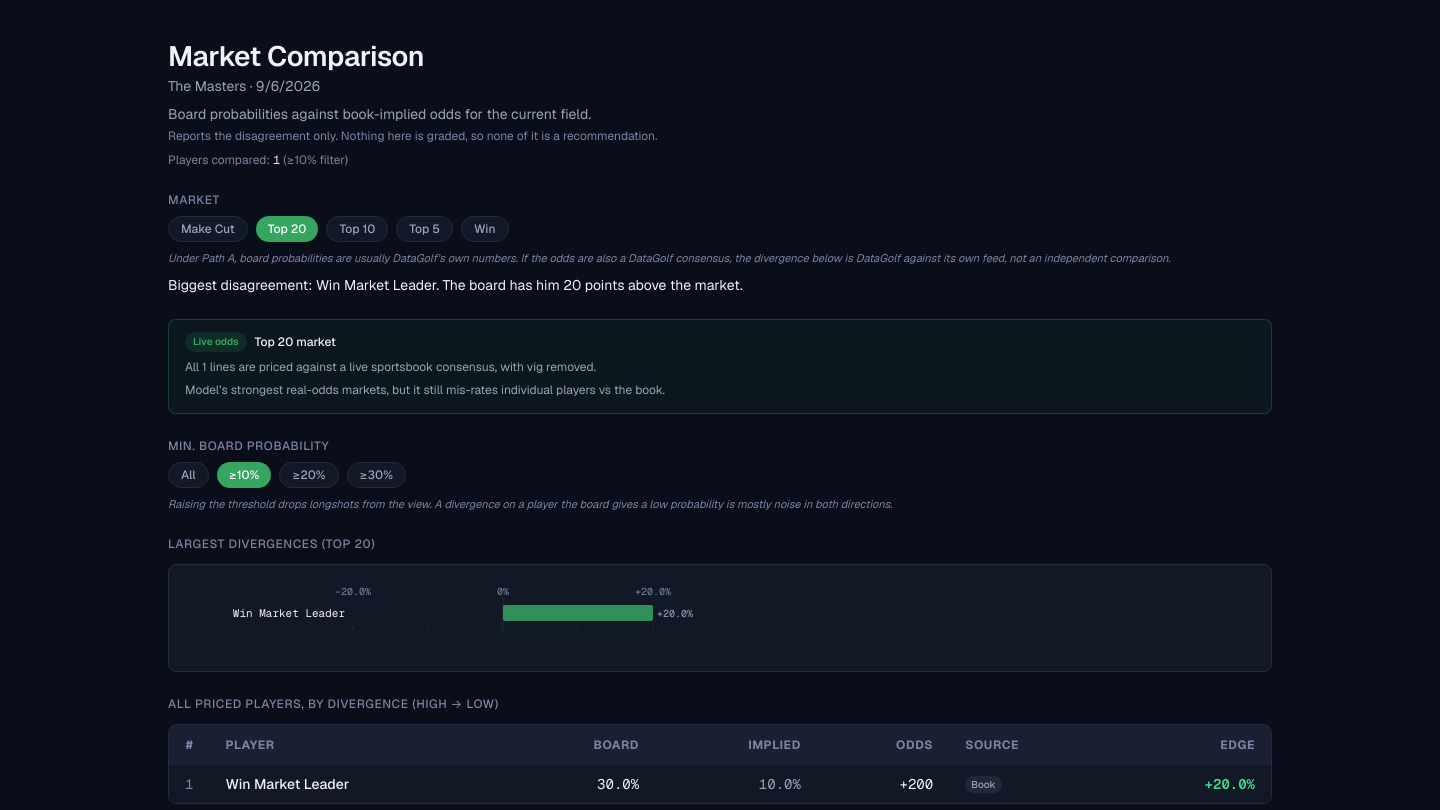
Scenario: BettingEdge › updates the callout when the market picker changes to a different market
The image size is (1440, 810).
Expected: the text "Biggest disagreement: Win Market Leader." is shown, x1=168 y1=276 x2=743 y2=294
Click the button "Make Cut" at coordinates (208, 229), box x1=168 y1=216 x2=248 y2=242
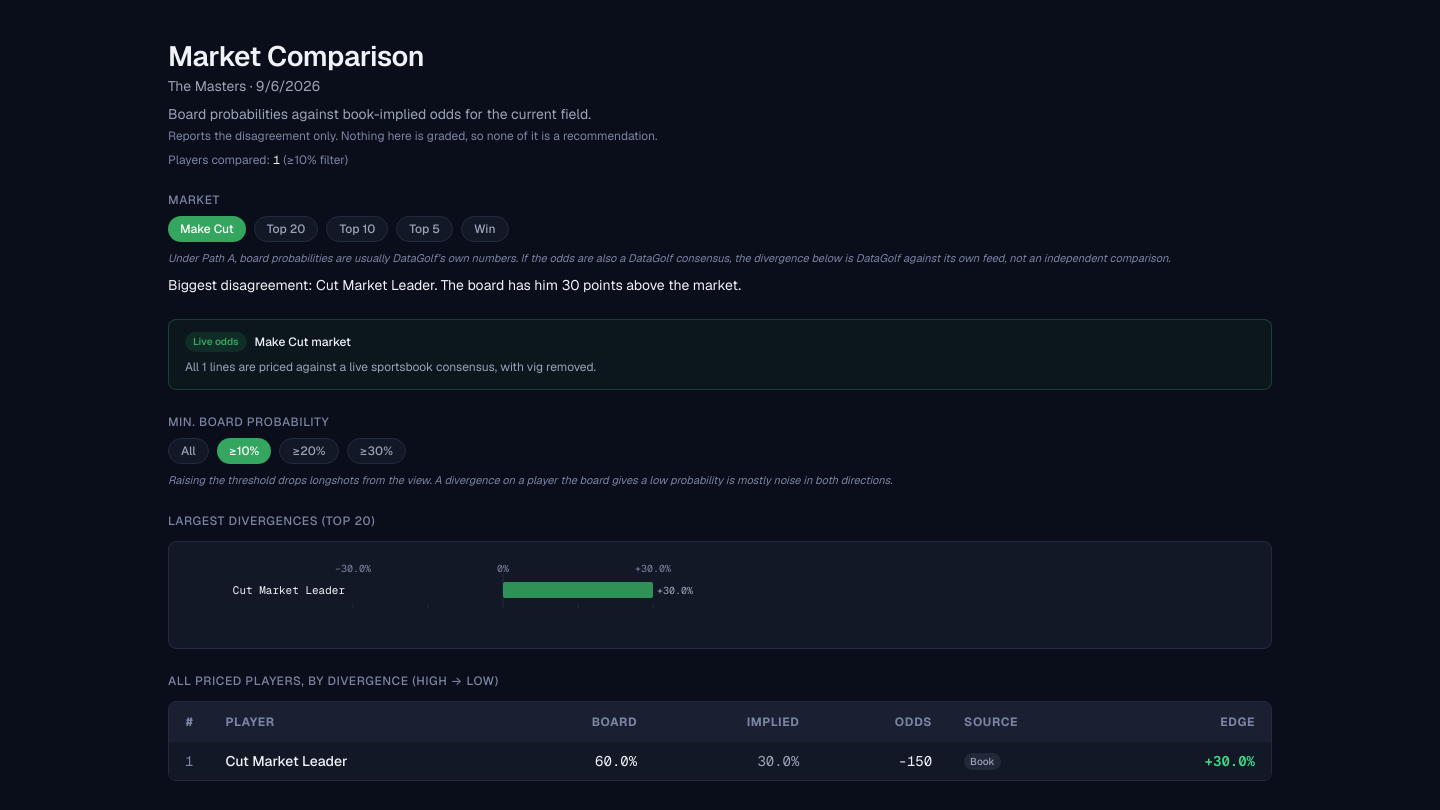
Expected: the text "Biggest disagreement: Cut Market Leader." is shown, x1=168 y1=276 x2=741 y2=294
Expected: the text "Win Market Leader" is gone
